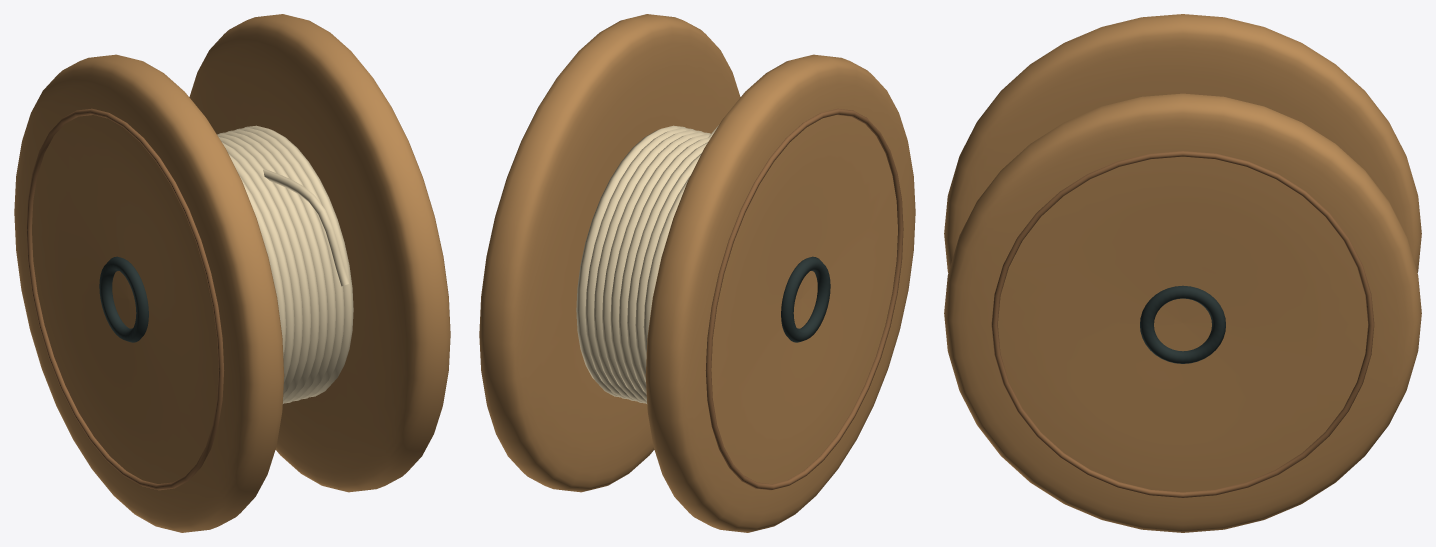
The model's file is spool-light.glb.
3 views of the same model, side by side, from view 1: azimuth 30°, elevation 25°; view 2: azimuth 150°, elevation 25°; view 3: azimuth 270°, elevation 25° (orthographic). The views are drawn at different scales.
Parts seen in each view (by area): view 1: wood, cream, edge, dark; view 2: wood, cream, edge, dark; view 3: wood, edge, dark.
Part boxes in pixels (x1,y1,x2,y2): wood: (14, 14, 450, 532); cream: (217, 125, 353, 403); edge: (26, 108, 224, 490); dark: (99, 256, 148, 342); wood: (479, 14, 915, 532); cream: (576, 125, 718, 403); edge: (705, 108, 903, 490); dark: (781, 256, 830, 342); wood: (944, 14, 1421, 532); edge: (991, 151, 1374, 497); dark: (1140, 285, 1225, 363).
Bounding box in the file's own units: 0.3256 × 0.6089 × 0.6089.
